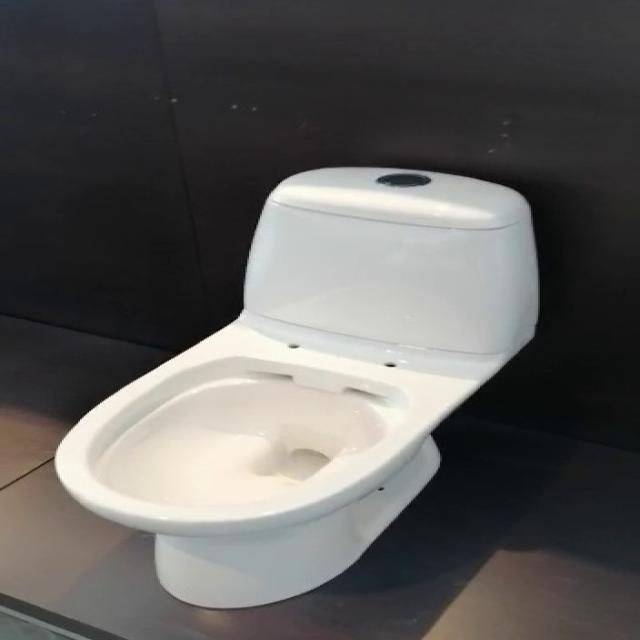toilet: (53, 165, 540, 609)
